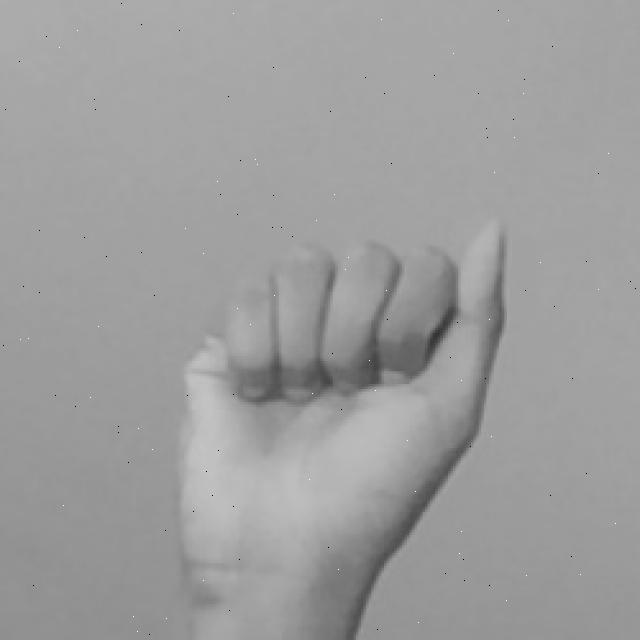A: (169, 210, 533, 640)
